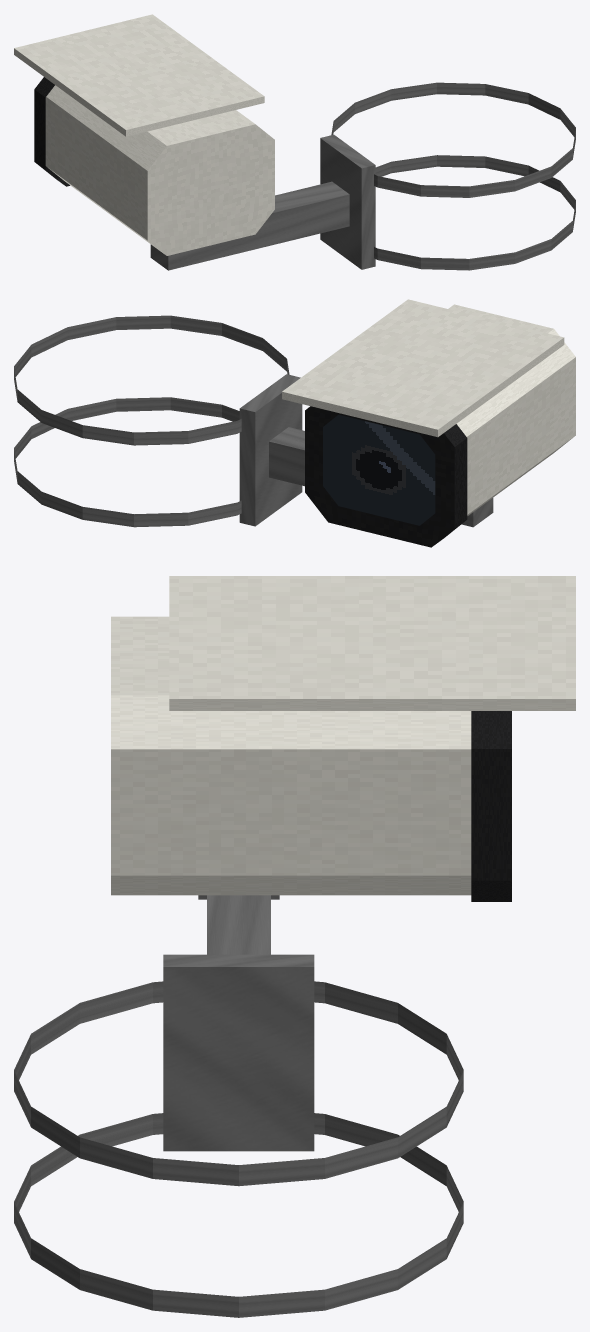
The model's file is red_light_camera_side_right.obj.
3 views of the same model, one above another, from view 1: azimuth 30°, elevation 25°; view 2: azimuth 150°, elevation 25°; view 3: azimuth 270°, elevation 25° (orthographic). The views are drawn at different scales.
Parts seen in each view (by area): view 1: red_light_camera_side_right; view 2: red_light_camera_side_right; view 3: red_light_camera_side_right.
Part boxes in pixels (x1,y1,x2,y2): red_light_camera_side_right: (14, 14, 575, 270); red_light_camera_side_right: (14, 299, 575, 547); red_light_camera_side_right: (14, 576, 575, 1317).
Bounding box in the file's own units: 1.64 × 0.675 × 0.967.
